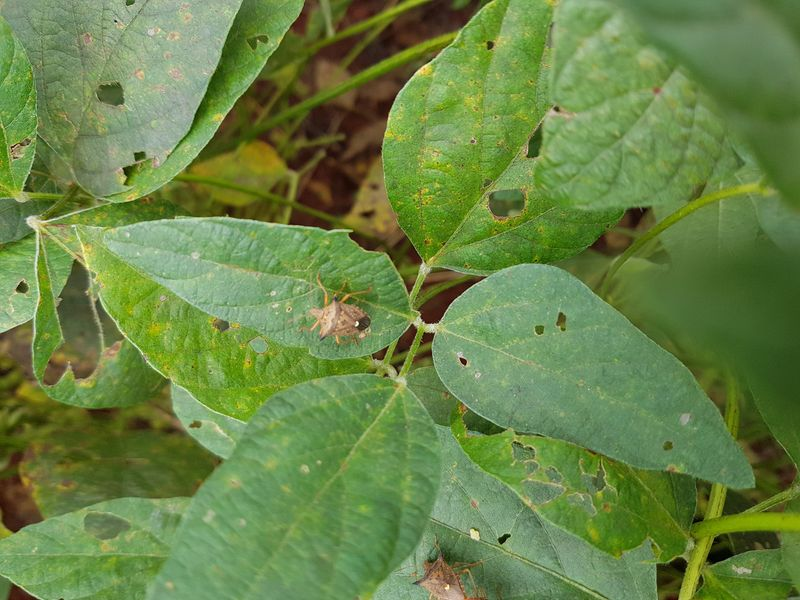Euschistus_heros_adulto: (291, 273, 385, 356), (405, 543, 487, 600)
